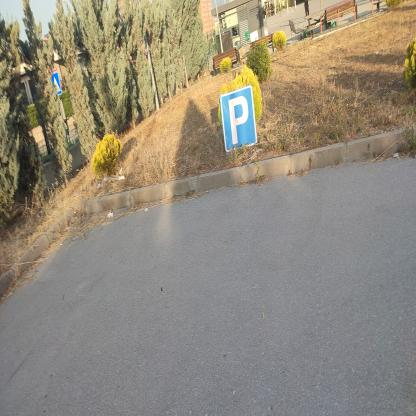Parking-Sign: (219, 85, 260, 154)
